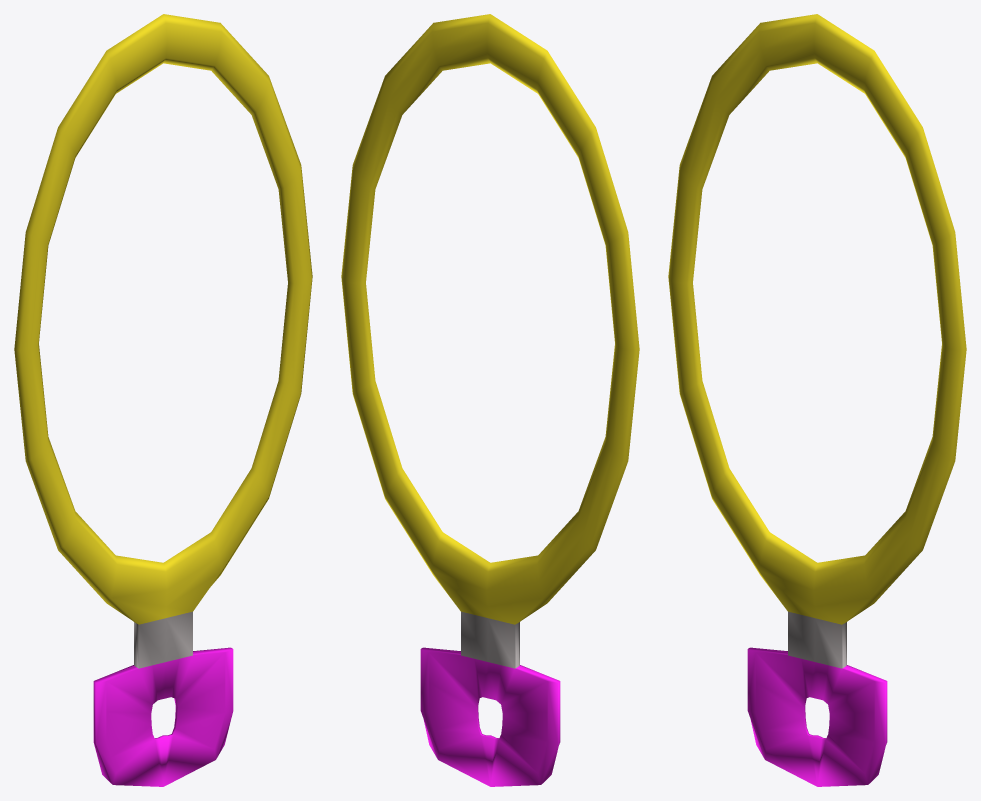
File: Gods_medalion.obj
The picture shows the model from 3 angles, left to right: view 1: azimuth 30°, elevation 25°; view 2: azimuth 150°, elevation 25°; view 3: azimuth 330°, elevation 25°; orthographic projection.
Visible parts, largest first — view 1: Torus6_Gold, Torus6_Gods, Torus6_Metal; view 2: Torus6_Gold, Torus6_Gods, Torus6_Metal; view 3: Torus6_Gold, Torus6_Gods, Torus6_Metal.
Part boxes in pixels (x1=…): Torus6_Gold: x1=14, y1=14, x2=312, y2=624; Torus6_Gods: x1=93, y1=647, x2=233, y2=786; Torus6_Metal: x1=134, y1=611, x2=192, y2=668; Torus6_Gold: x1=341, y1=14, x2=639, y2=624; Torus6_Gods: x1=420, y1=647, x2=560, y2=786; Torus6_Metal: x1=461, y1=611, x2=519, y2=668; Torus6_Gold: x1=668, y1=14, x2=966, y2=624; Torus6_Gods: x1=747, y1=647, x2=887, y2=786; Torus6_Metal: x1=788, y1=611, x2=846, y2=668.
Bounding box in the file's own units: 5.09 × 12.6 × 0.2163.
